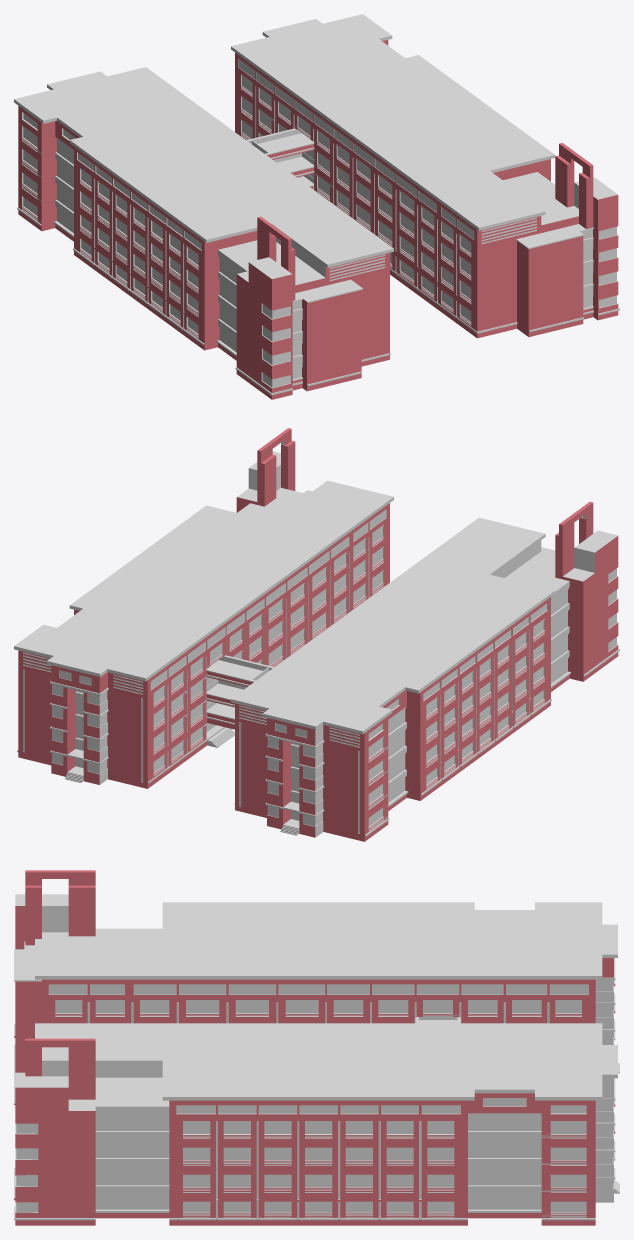
The model's file is 三教四教.fbx.
The picture shows the model from 3 angles, top to bottom: view 1: azimuth 30°, elevation 25°; view 2: azimuth 150°, elevation 25°; view 3: azimuth 270°, elevation 25°; orthographic projection. The views are drawn at different scales.
Parts seen in each view (by area): view 1: Cube; view 2: Cube; view 3: Cube.
Boxes of the visible parts, x1,y1,x2,y2 form: Cube: (14,14,619,399); Cube: (14,428,619,841); Cube: (14,870,619,1225).
Size of the model in its own units: 37.98 by 15.79 by 49.97.
